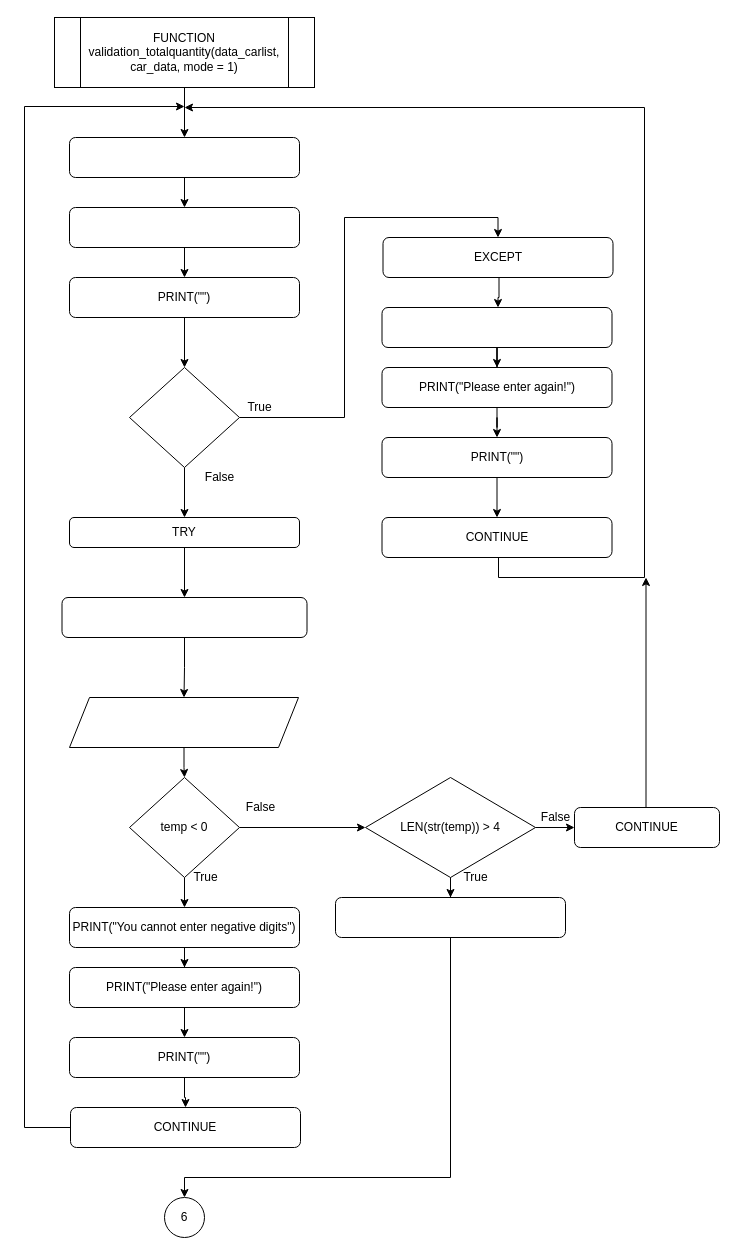
The diagram is 737 pixels wide and 1255 high, and some of its shapes have lost their labels. The centre of each missing label's shape, as x and y in pixels:
GET temp AS INTEGER: pixel 183 722
PRINT("Total Quantity = Available + Unavailable + In Service"): pixel 184 157
PRINT("You can only enter upto 4 positive integers. "): pixel 496 327
PRINT("You can only input upto 4 positive digits"): pixel 184 227
PRINT("You cannot exceed 4 digits"): pixel 450 917
PROMPT "What is the total quantity now? :": pixel 184 617
ValueError: pixel 184 417
